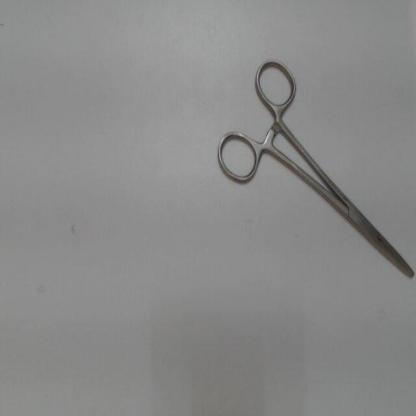Mayo Needle Holder: (210, 51, 416, 289)
